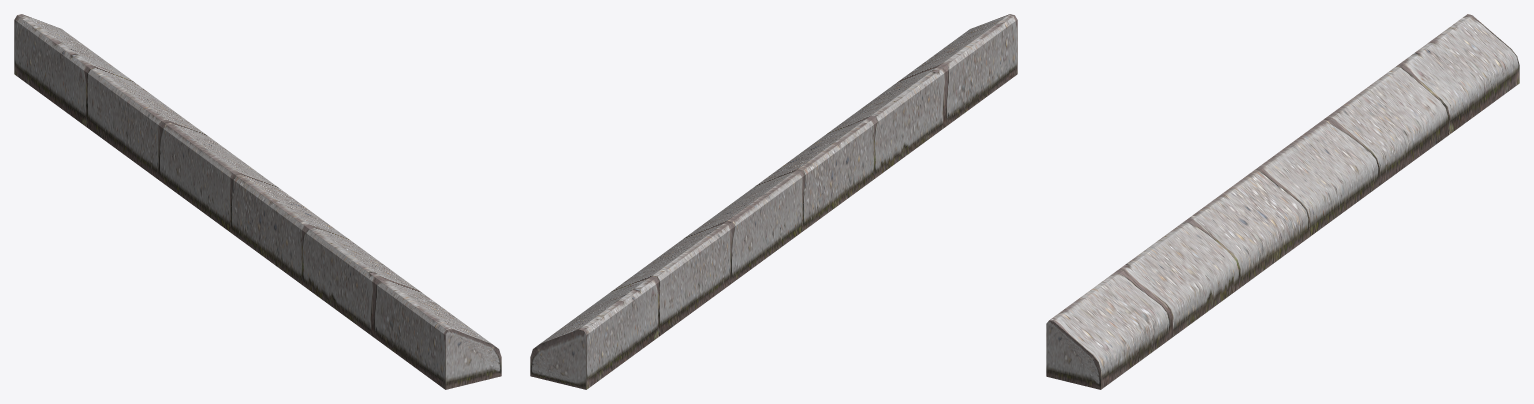
Rendered from Curb_01.fbx.
3 views of the same model, side by side, from view 1: azimuth 30°, elevation 25°; view 2: azimuth 150°, elevation 25°; view 3: azimuth 330°, elevation 25° (orthographic). The views are drawn at different scales.
Visible parts, largest first — view 1: Curb_01; view 2: Curb_01; view 3: Curb_01.
Part boxes in pixels (bbox=[...]): Curb_01: bbox=[14, 14, 501, 389]; Curb_01: bbox=[530, 14, 1017, 389]; Curb_01: bbox=[1046, 14, 1519, 389].
Bounding box in the file's own units: 15 × 15 × 200.
